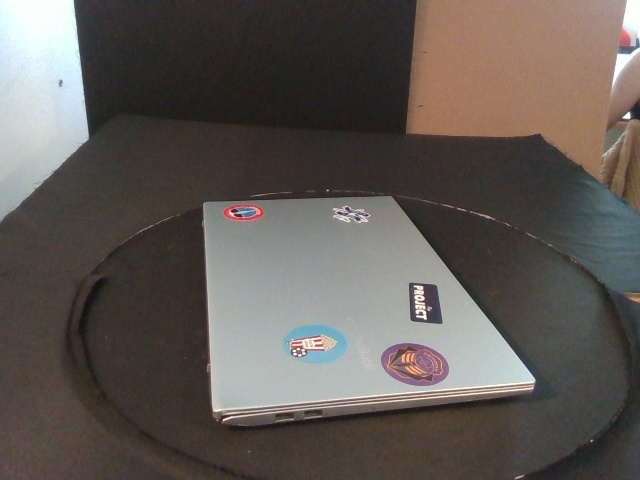laptop: (201, 195, 536, 428)
